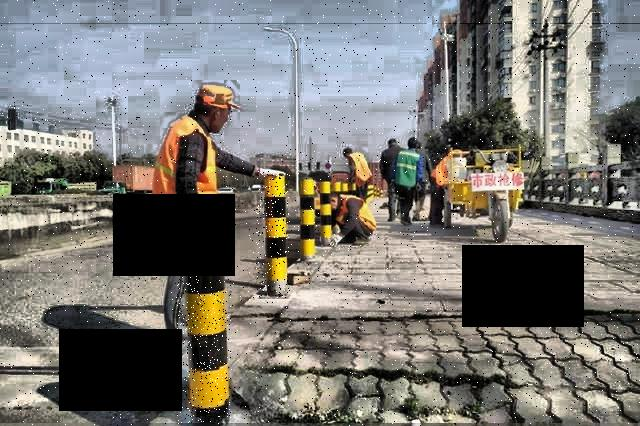bench: (177, 200, 232, 425), (256, 171, 290, 299)
